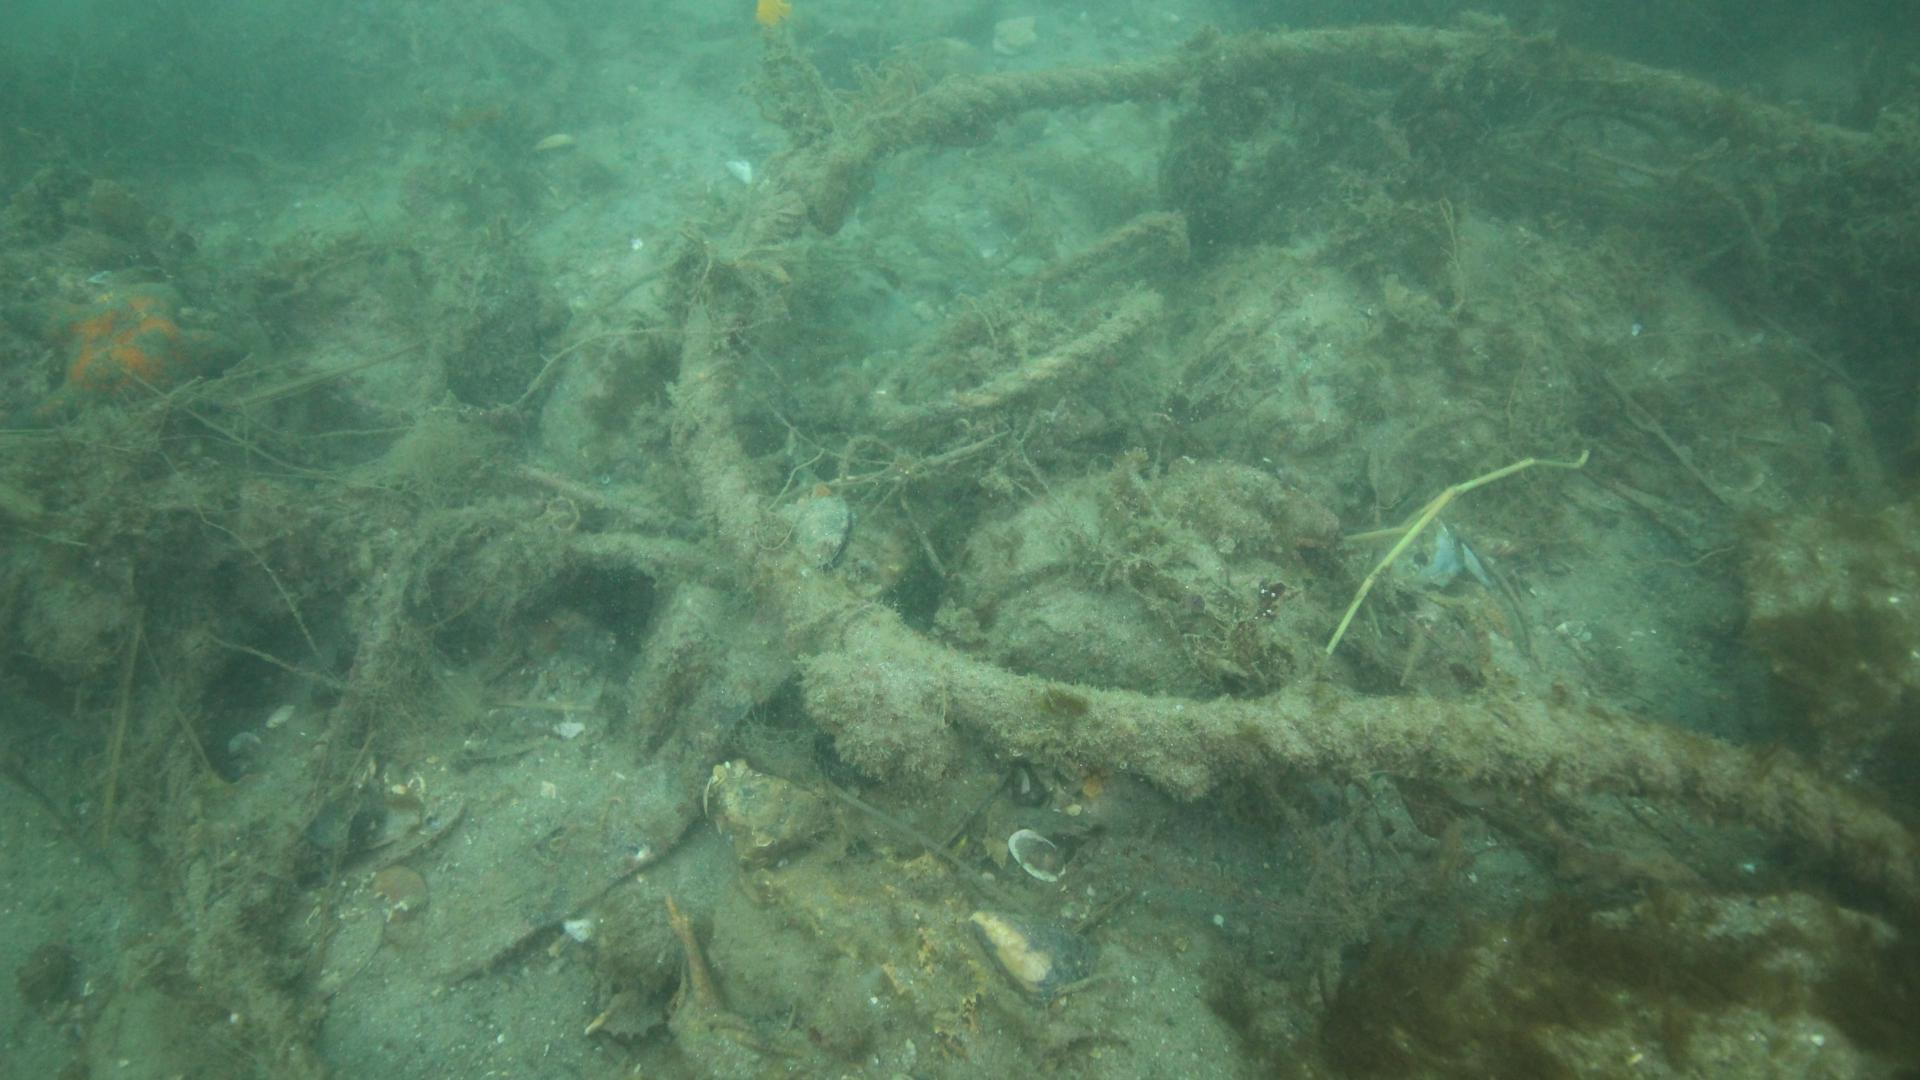bundle of ropes: (669, 24, 1920, 911)
